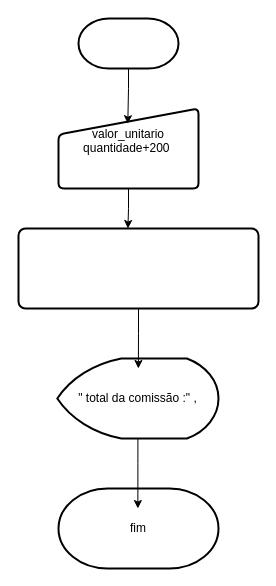
The diagram is 276 pixels wide and 586 high, and some of its shapes have lost their labels. The centre of each missing label's shape, as x and y in pixels:
inicio: the point at 128,43
total=quantidade*valor_da_unidade: the point at 138,268
